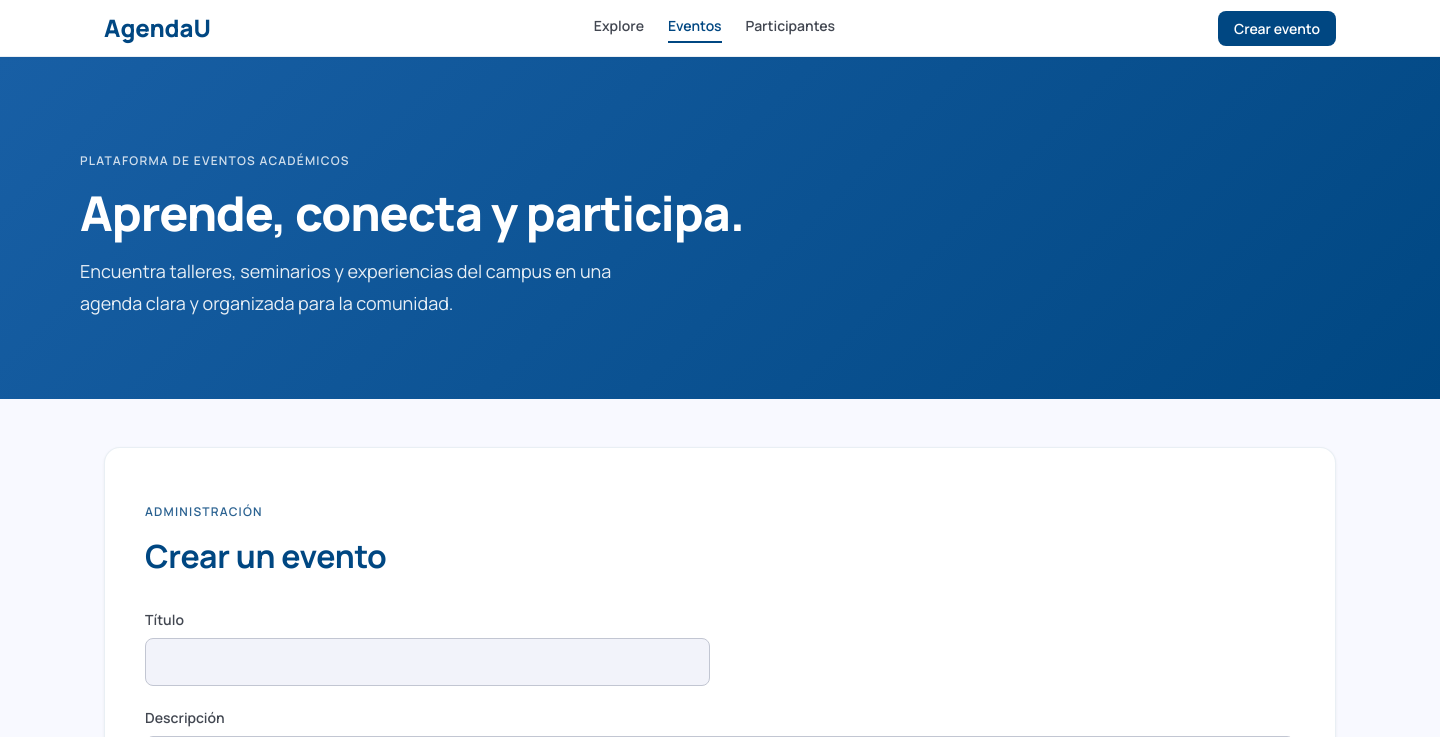
Test: App › creates an event and adds it to the list
Type "New Seminar" into the field labelled "Título" at (428, 662), box [145,638,710,686]
(page scrolled)
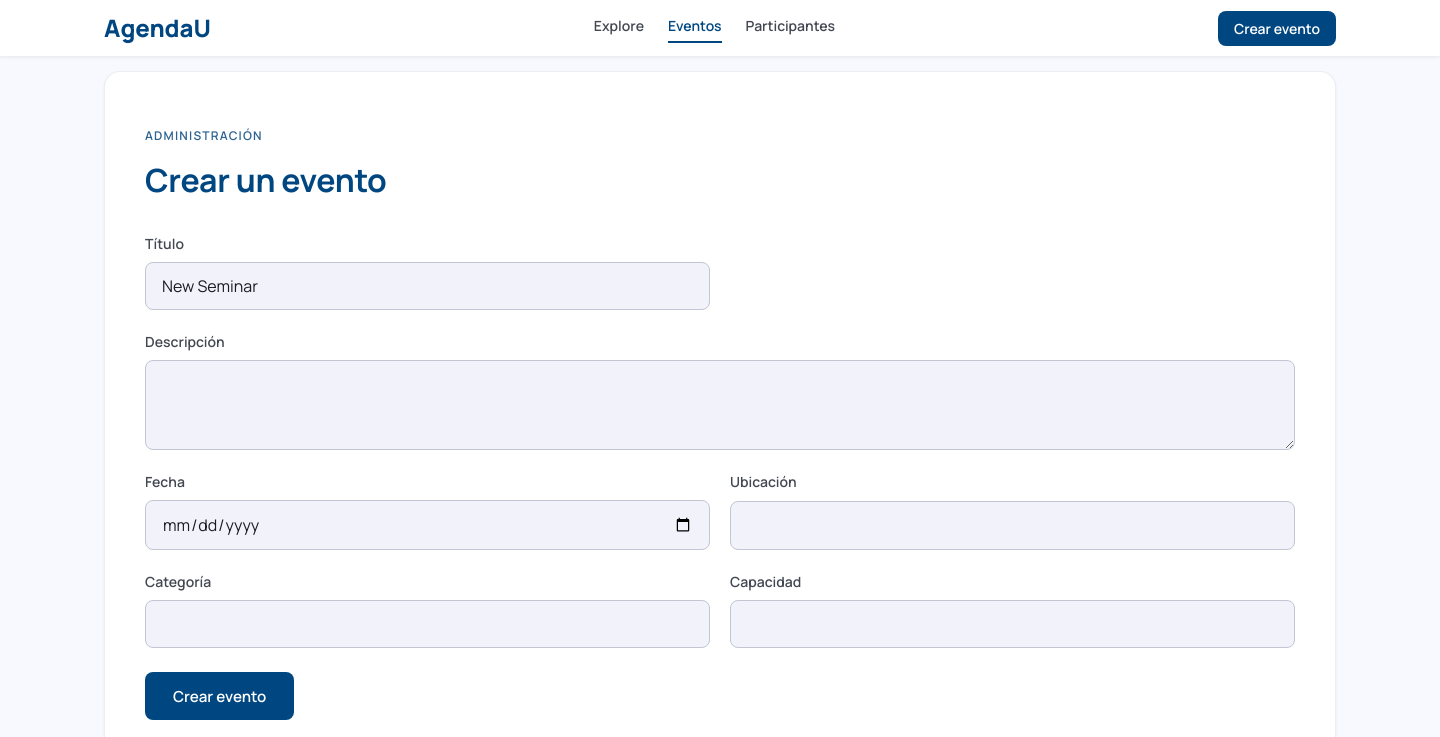
Type "Build inclusive apps" into the text box labelled "Descripción" at (720, 405), box [145,360,1295,450]
Type "2026-08-14" into the date field labelled "Fecha" at (428, 525), box [145,500,710,550]
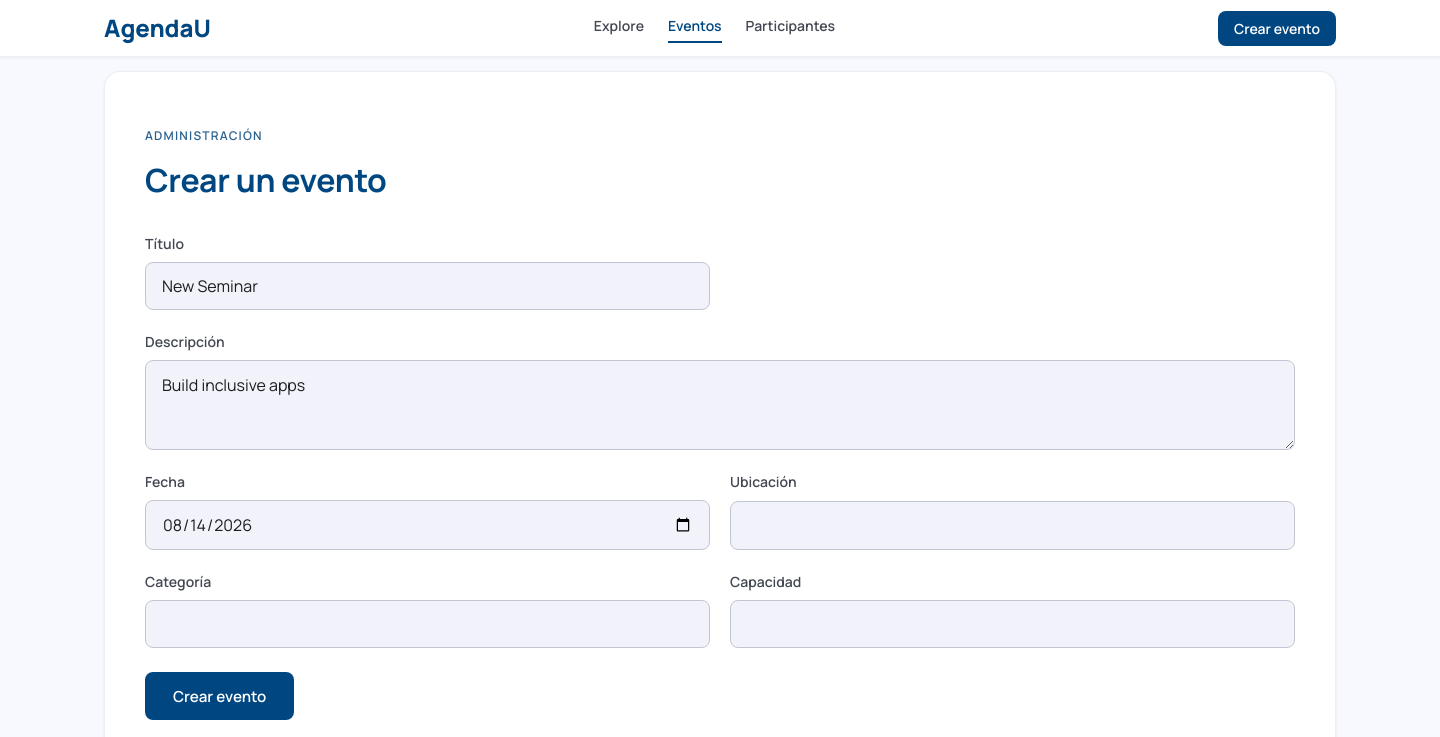
Type "Lab 2" into the field labelled "Ubicación" at (1012, 526), box [730,501,1295,550]
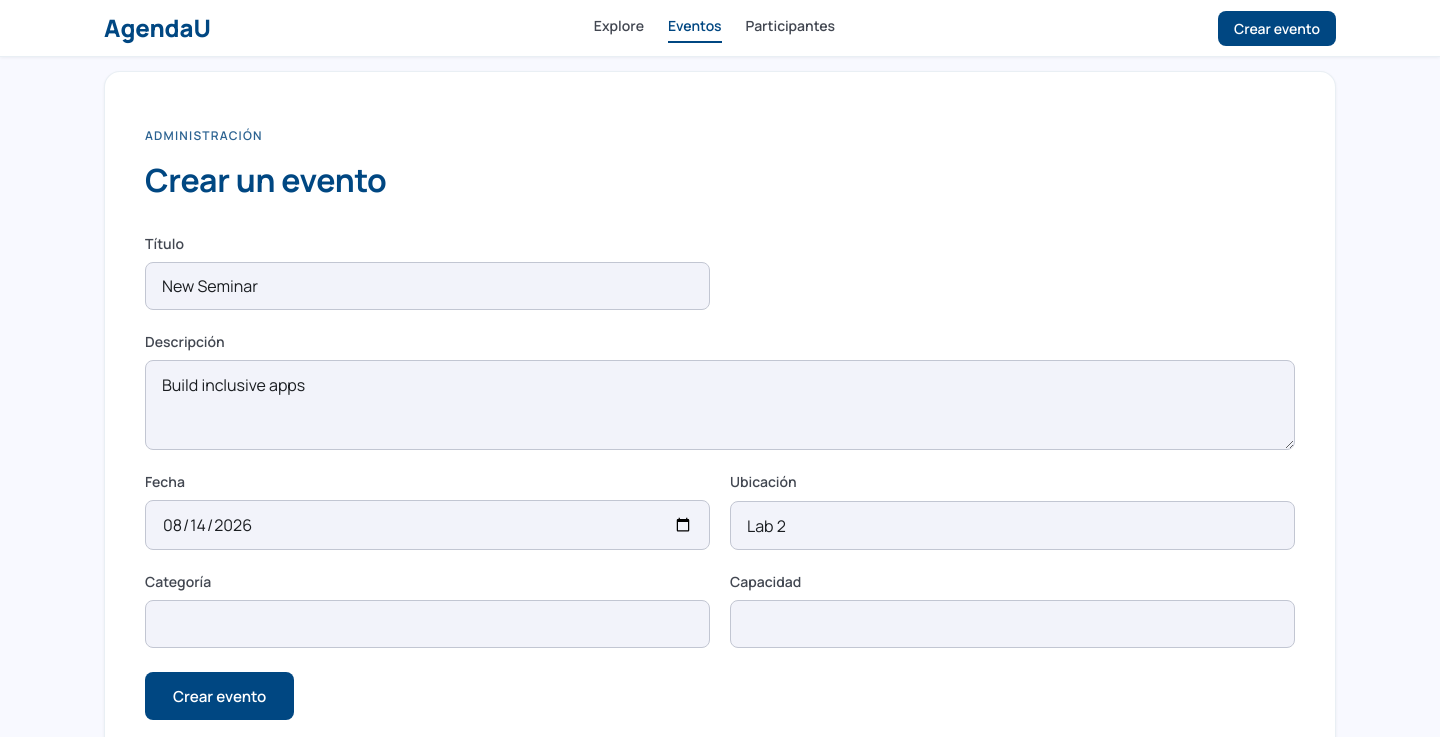
Type "Workshop" into the field labelled "Categoría" at (428, 624), box [145,600,710,648]
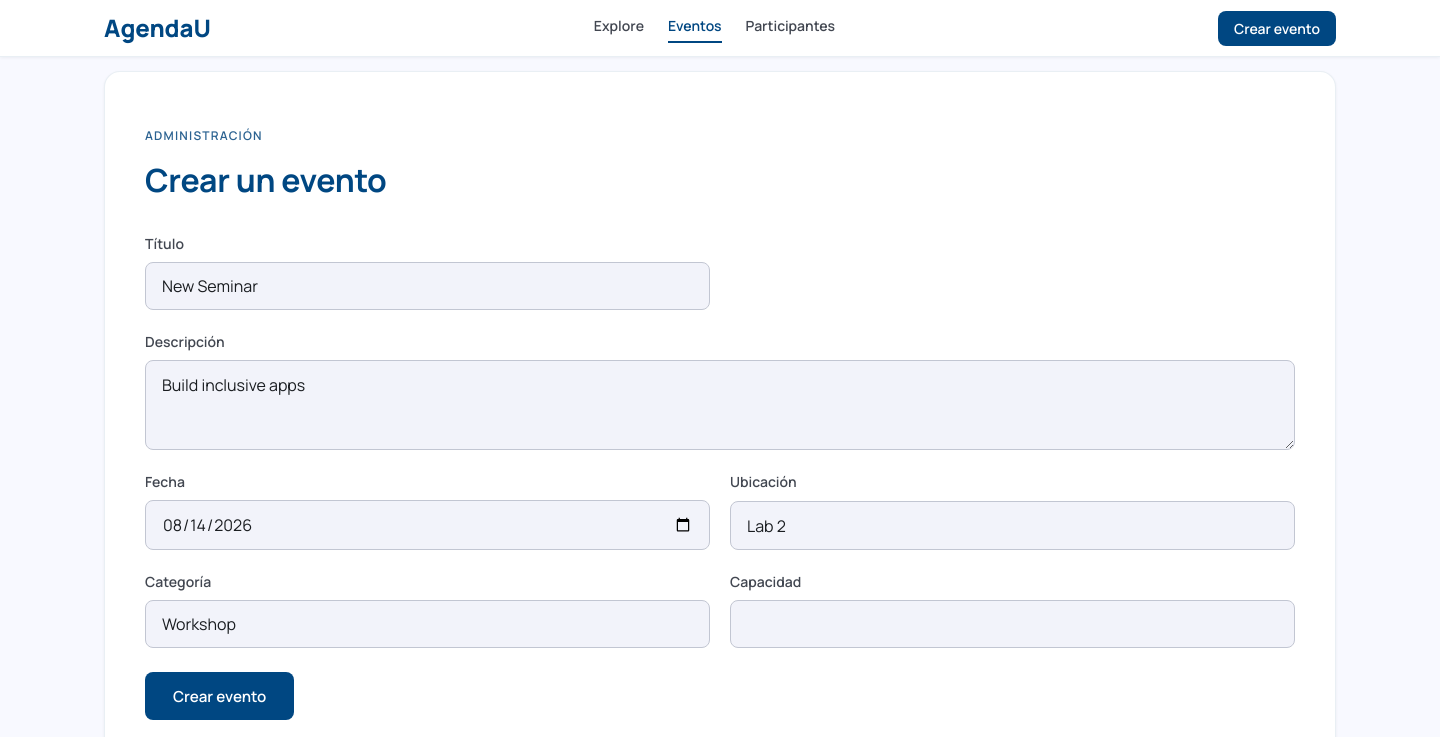
Type "30" into the number field labelled "Capacidad" at (1012, 624), box [730,600,1295,648]
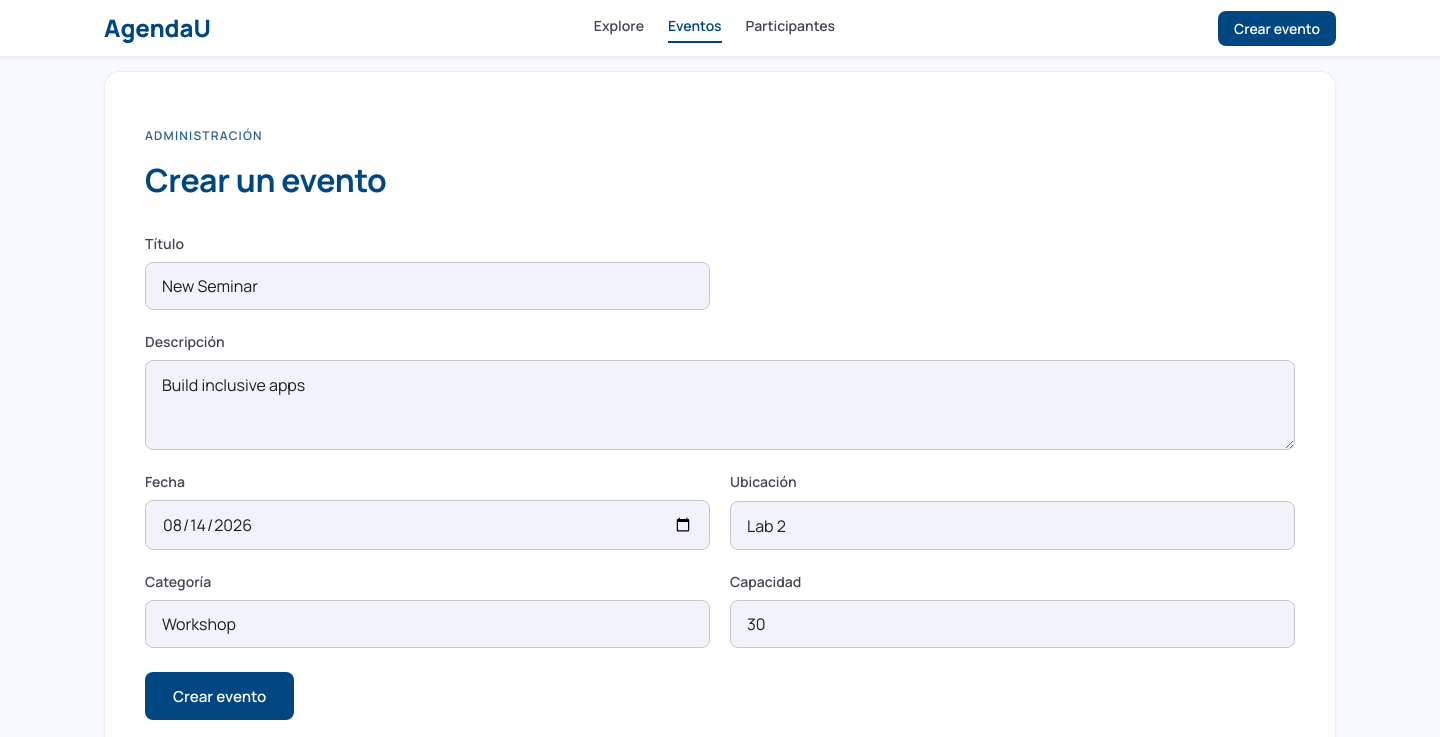
Click the button "Crear evento" below "Categoría" at (220, 696), box [145,672,294,720]
(page scrolled)
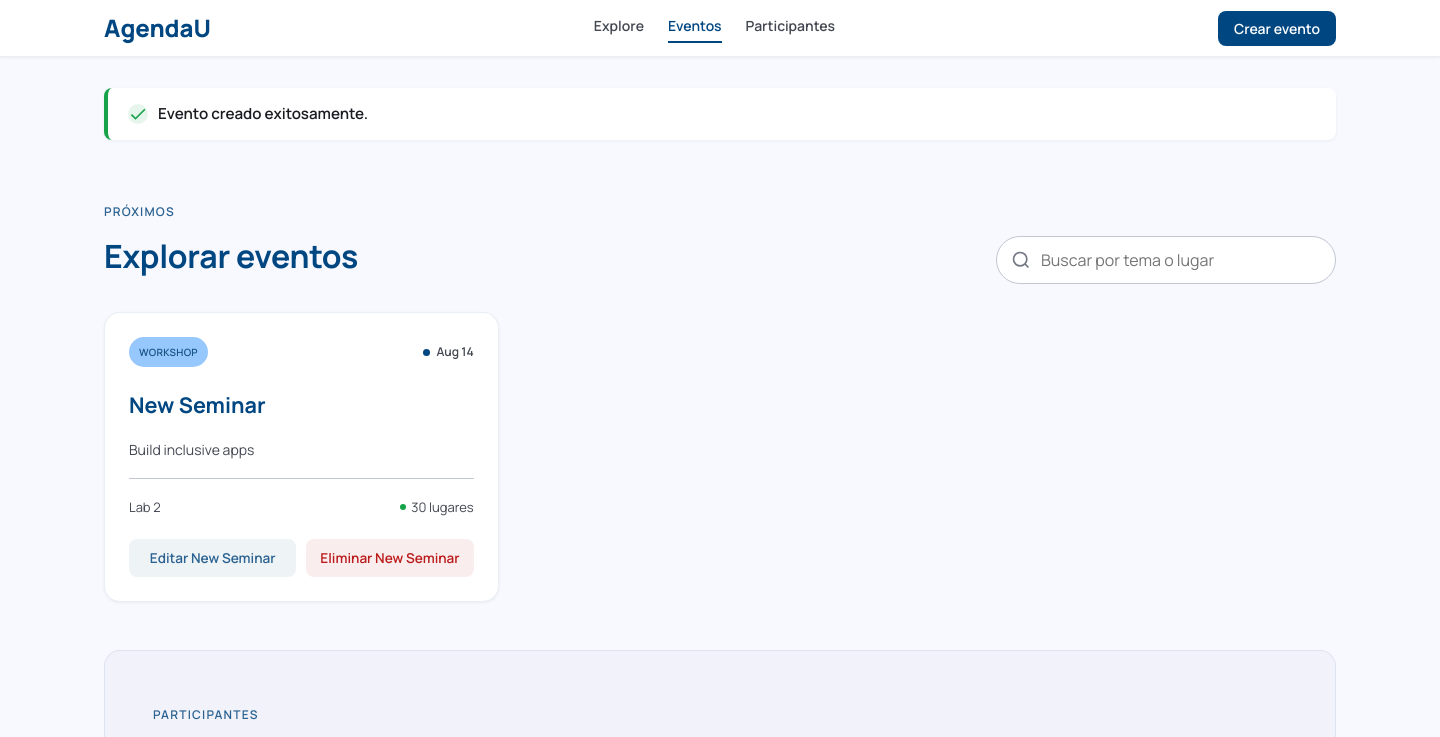
Expected: the text "Evento creado exitosamente." is shown, [104,88,1336,140]
Expected: the heading "New Seminar" is shown, [129,390,266,419]
